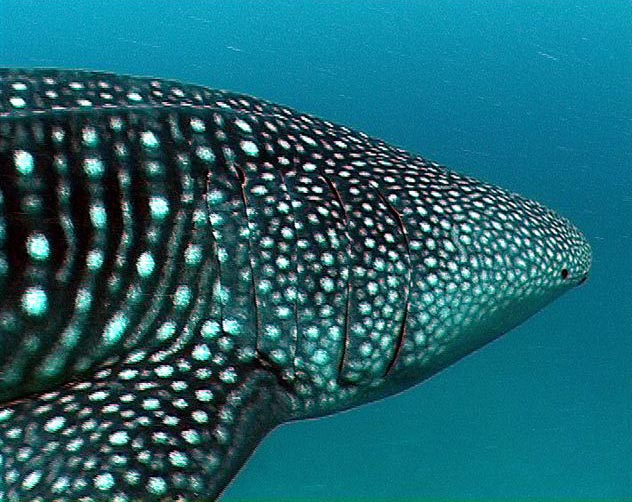Rhincodon_typusw: (1, 61, 602, 494)
